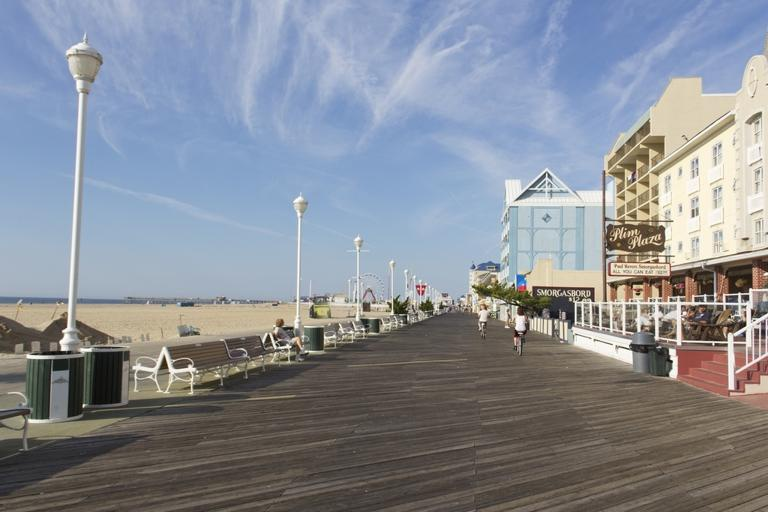non-vehicle: (509, 321, 528, 356), (479, 322, 486, 339)
